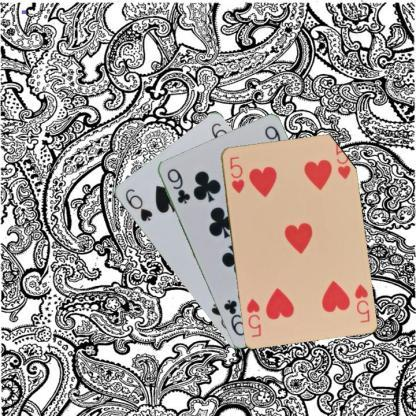5h: (351, 280, 371, 324), (226, 154, 245, 194)
6s: (122, 186, 154, 222)
9c: (164, 166, 191, 206)
